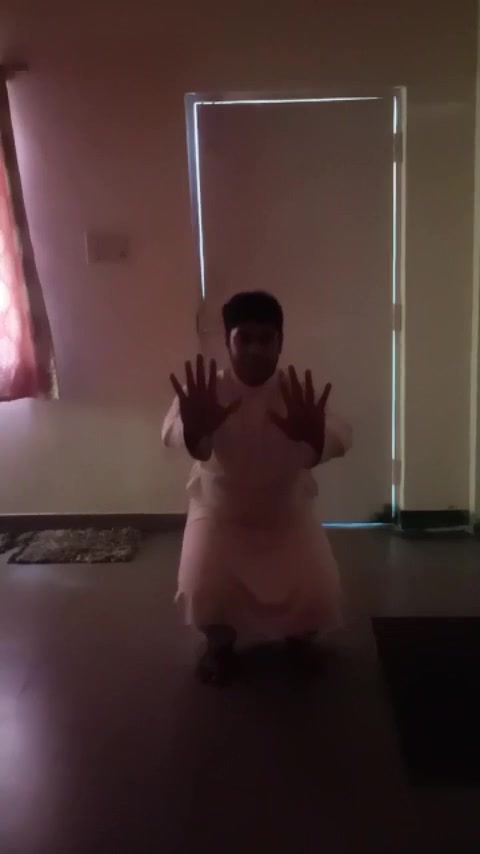duck: (162, 245, 351, 701)
